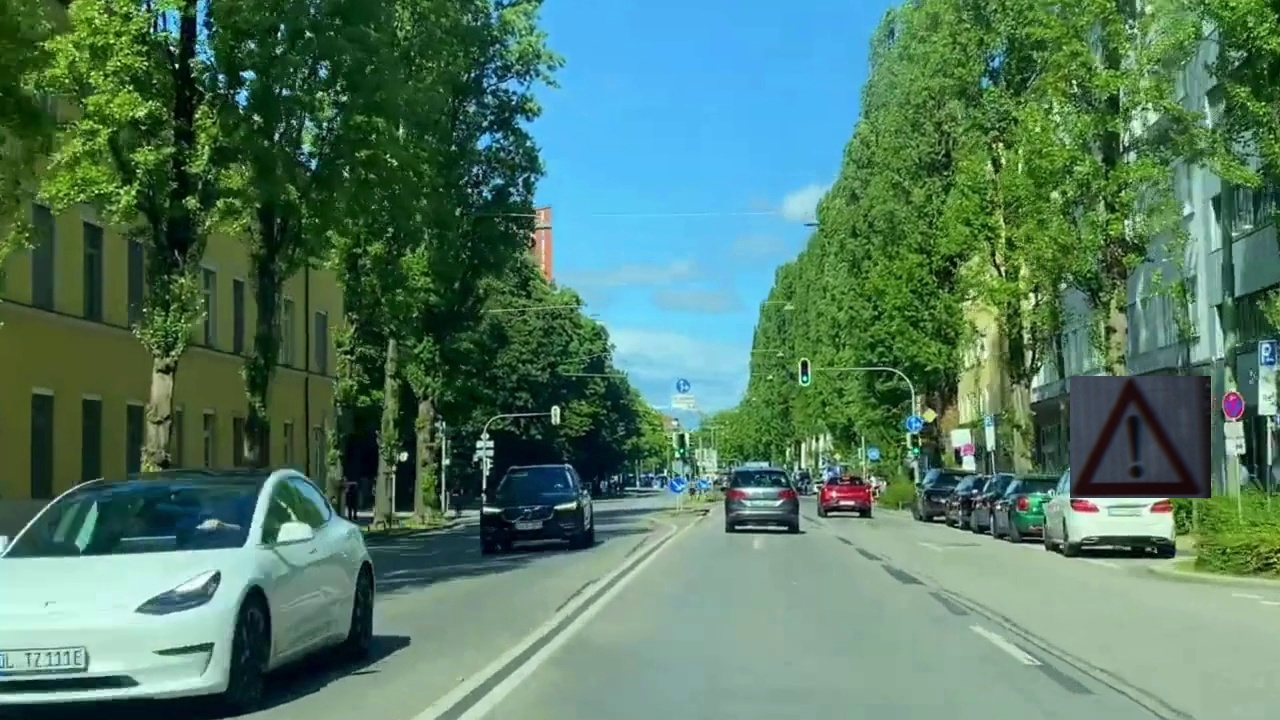Caution: (1070, 376, 1211, 498)
